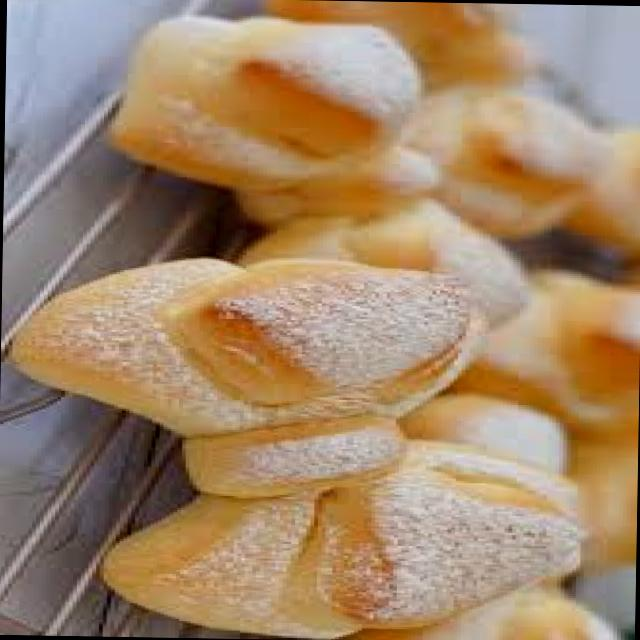metal: (0, 437, 177, 635)
organic: (38, 260, 578, 636), (132, 8, 591, 256)
